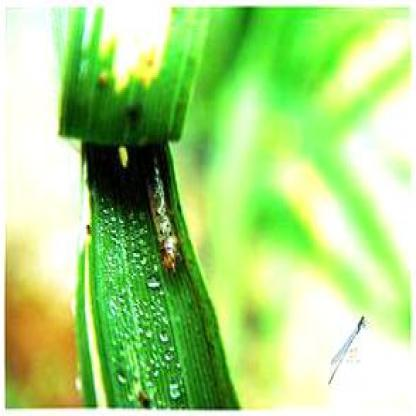leaf-folder: (124, 155, 195, 285)
